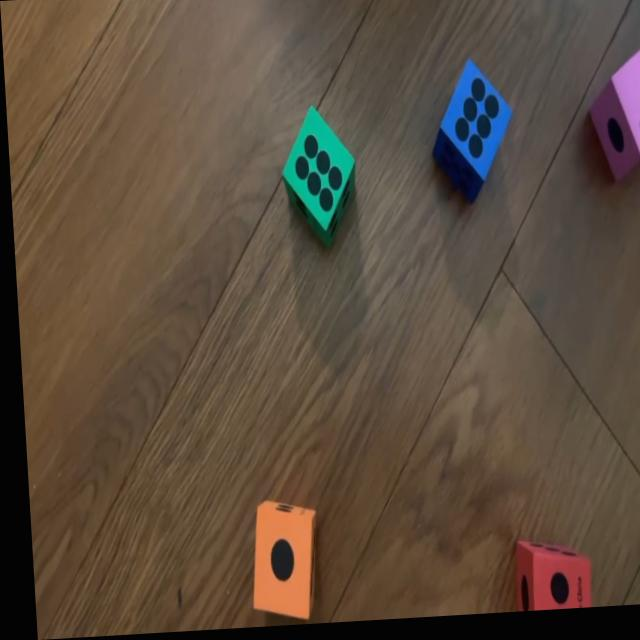cube: (274, 104, 360, 252), (426, 65, 515, 208), (505, 540, 585, 618)
